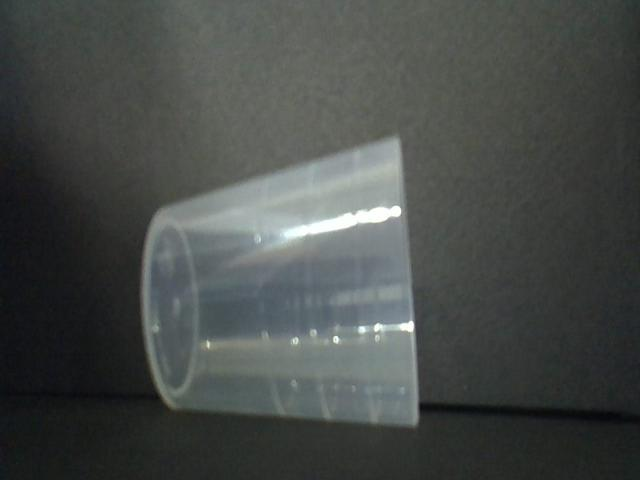cup: (146, 134, 426, 435)
